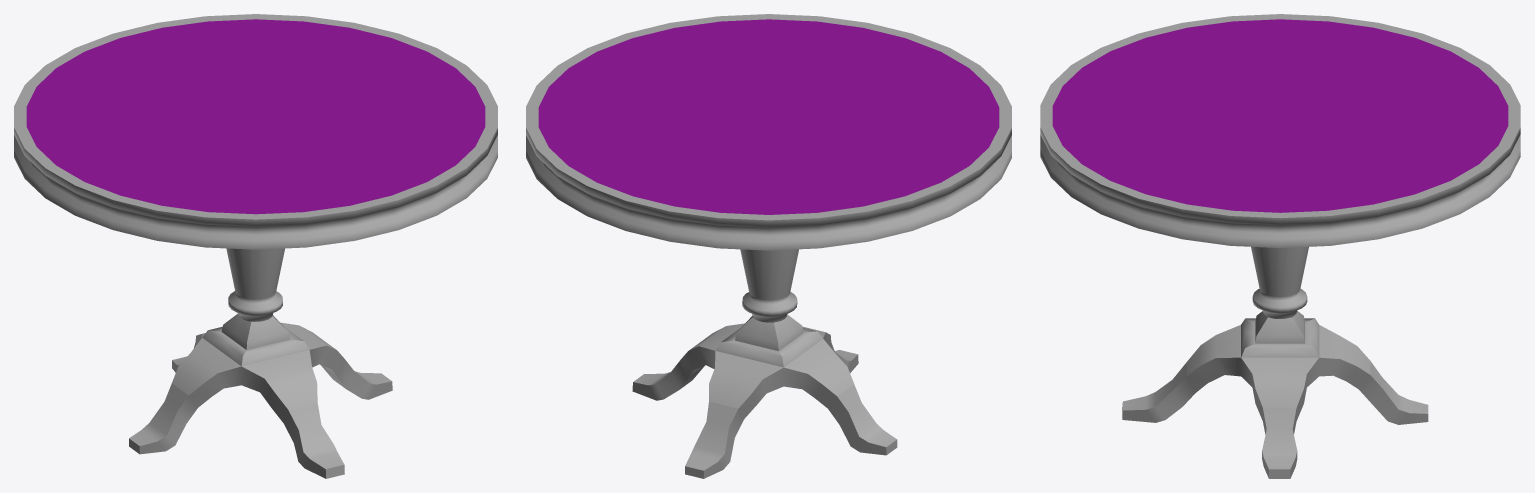
Rendered from Tisch_ver2_Round_LP.fbx.
The picture shows the model from 3 angles, left to right: view 1: azimuth 30°, elevation 25°; view 2: azimuth 150°, elevation 25°; view 3: azimuth 270°, elevation 25°; orthographic projection.
Parts seen in each view (by area): view 1: ROUND_TABLE_Top_LP, ROUND_TABLE_legs_LP, ROUND_TABLE_Pole_LP; view 2: ROUND_TABLE_Top_LP, ROUND_TABLE_legs_LP, ROUND_TABLE_Pole_LP; view 3: ROUND_TABLE_Top_LP, ROUND_TABLE_legs_LP, ROUND_TABLE_Pole_LP.
Part boxes in pixels (x1,y1,x2,y2): ROUND_TABLE_Top_LP: [14, 14, 497, 249]; ROUND_TABLE_legs_LP: [129, 313, 392, 478]; ROUND_TABLE_Pole_LP: [226, 248, 284, 321]; ROUND_TABLE_Top_LP: [526, 14, 1011, 250]; ROUND_TABLE_legs_LP: [632, 314, 897, 478]; ROUND_TABLE_Pole_LP: [740, 249, 798, 322]; ROUND_TABLE_Top_LP: [1040, 14, 1520, 247]; ROUND_TABLE_legs_LP: [1122, 311, 1428, 478]; ROUND_TABLE_Pole_LP: [1251, 247, 1308, 318].
Size of the model in its own units: 1.28 by 0.8827 by 1.27.
